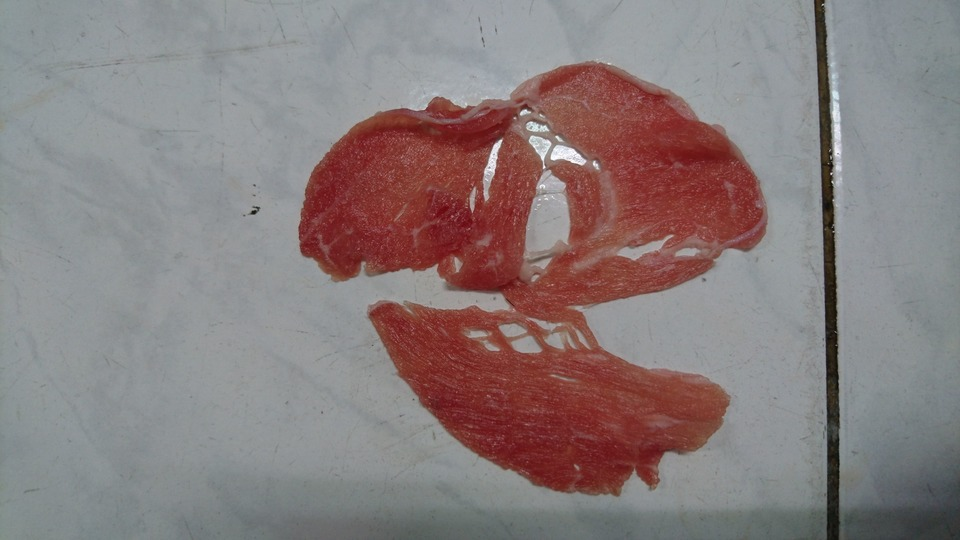restructured meat: (286, 38, 760, 503)
